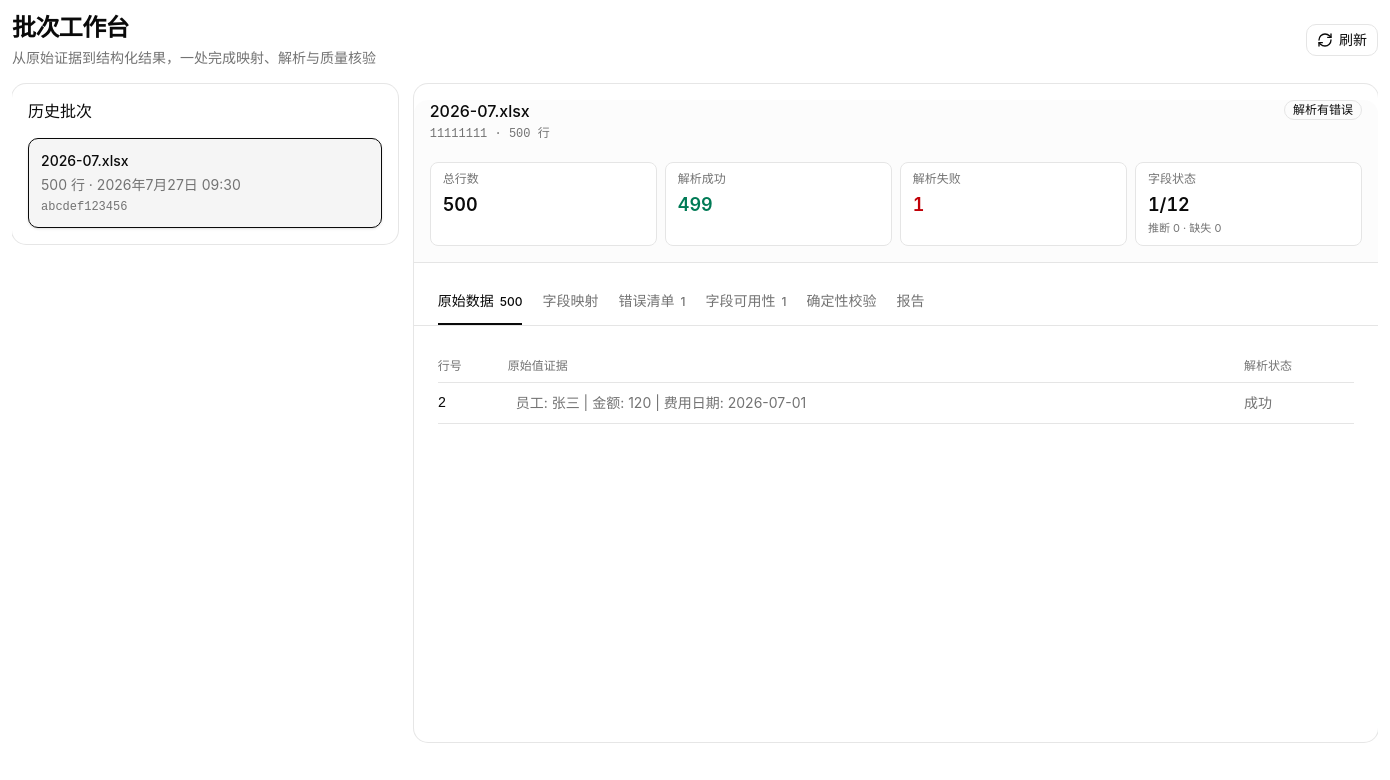
Test: BatchesPage › viewer 仅查看解析结果并能读取逐行错误
Step 1. Click the button "2026-07.xlsx" → (205, 183), box [28,138,382,228]
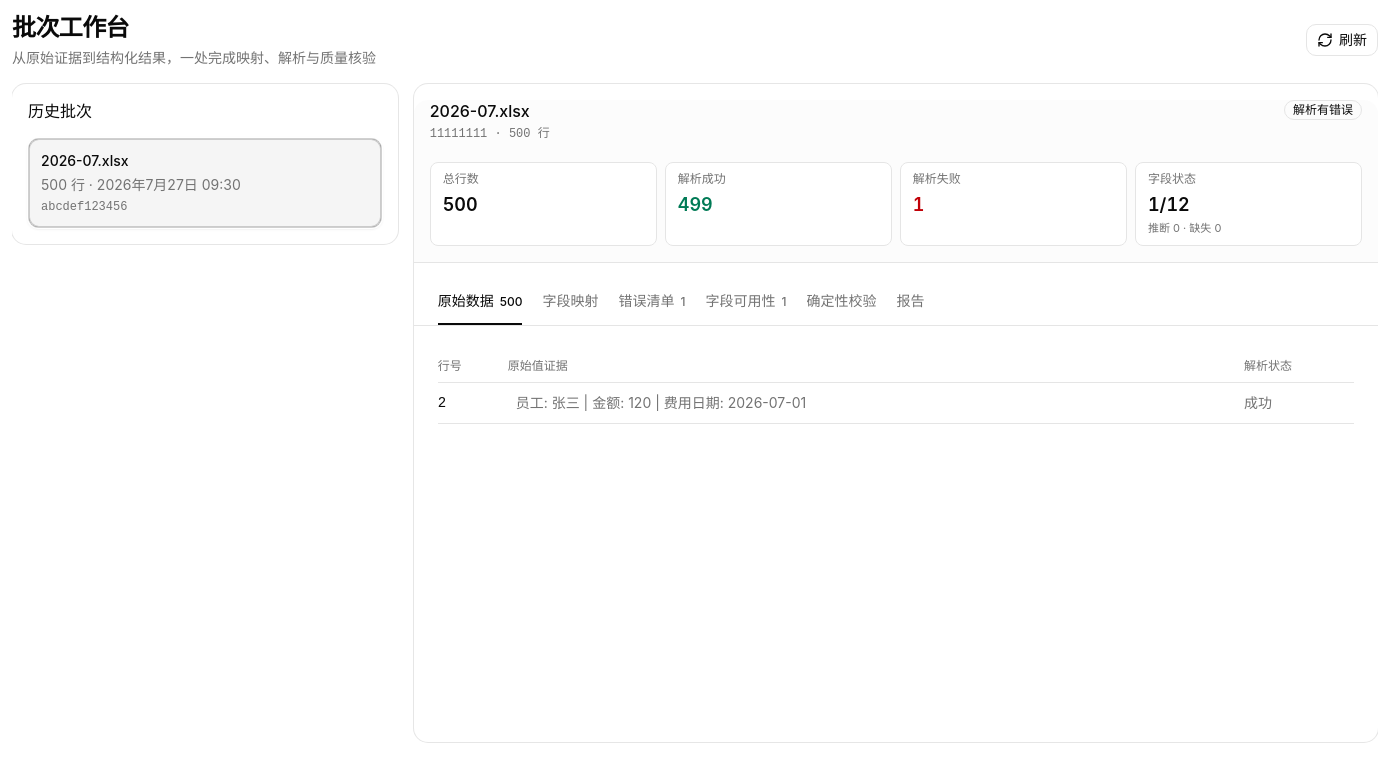
Expected: the text "员工: 张三 | 金额: 120 | 费用日期: 2026-07-01" is shown, [516,394,806,411]
Step 2. Click the tab "错误清单1" → (652, 302), box [618,279,685,325]
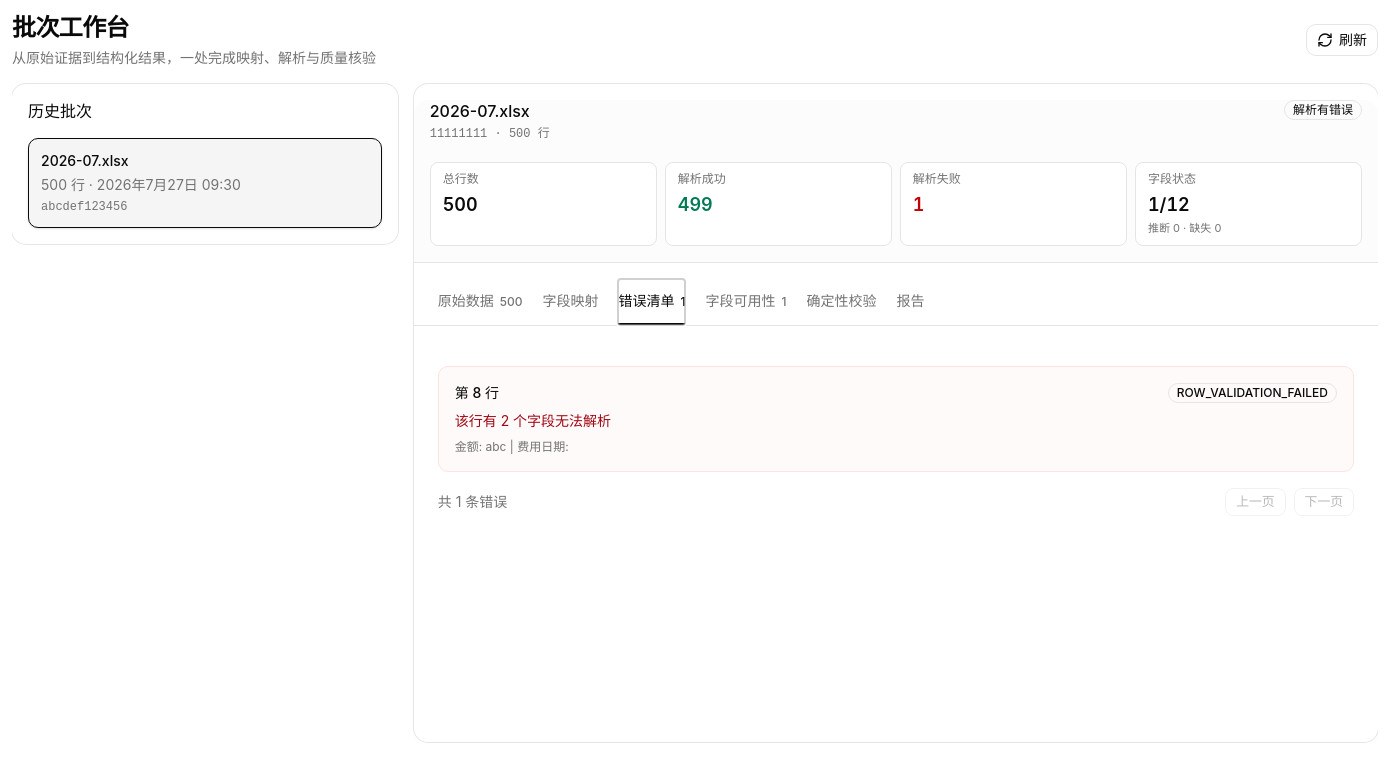
Expected: the text "该行有 2 个字段无法解析" is shown, [455,412,611,429]
Step 3. Click the tab "字段映射" → (570, 302), box [542,279,598,325]
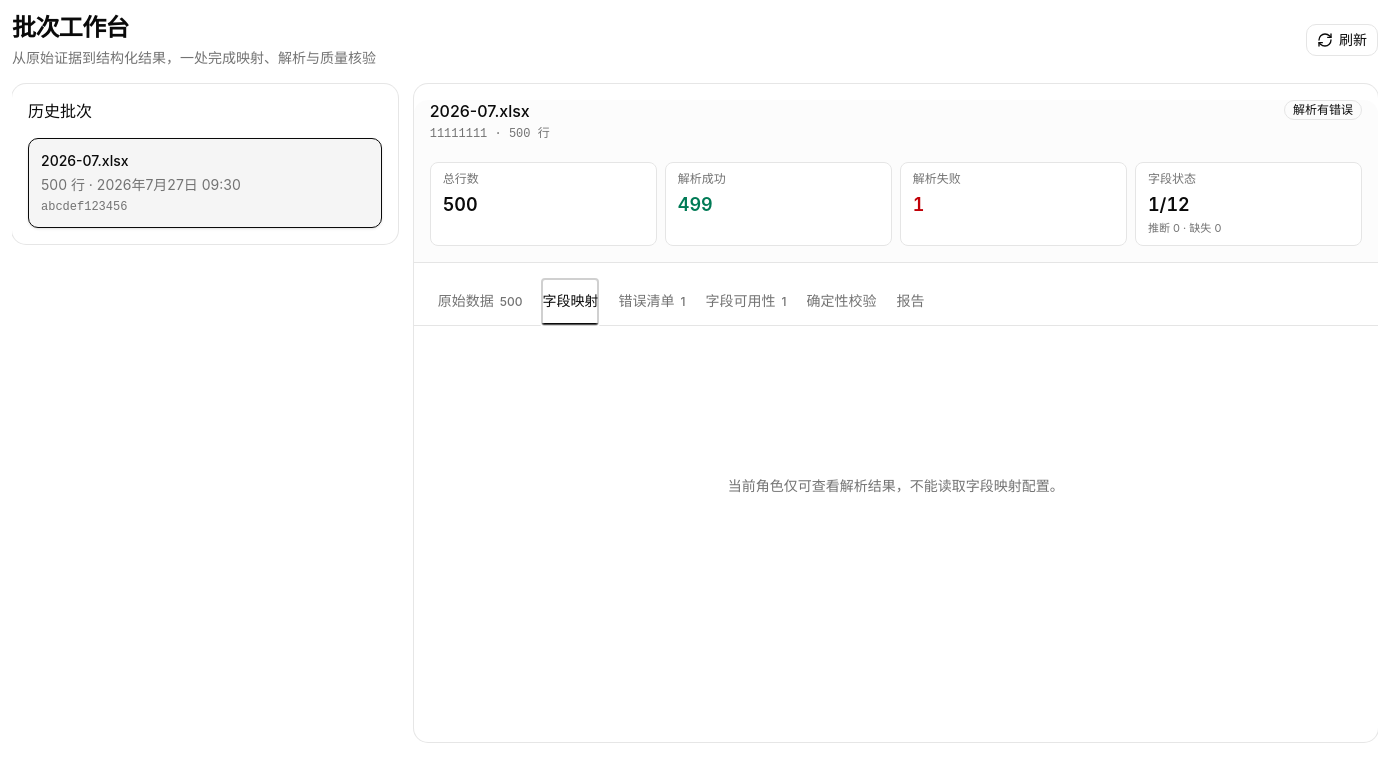
Expected: the text "当前角色仅可查看解析结果，不能读取字段映射配置。" is shown, [728,477,1064,494]
